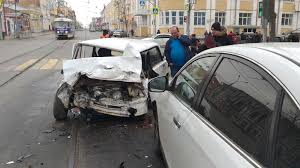car: (66, 25, 154, 126)
